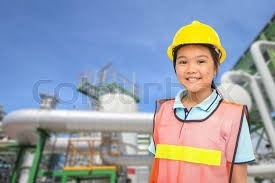helmet: (167, 20, 226, 65)
person with full safety: (146, 18, 256, 182)
safety vest: (155, 95, 243, 183)
